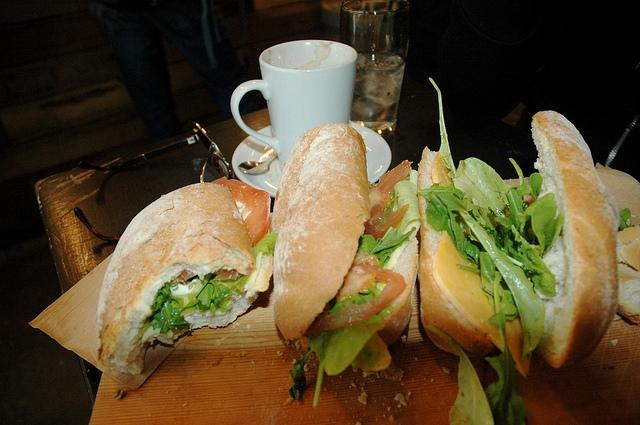lettuce: (458, 209, 544, 362), (310, 287, 393, 376), (426, 325, 494, 425), (484, 271, 528, 425), (426, 194, 478, 268), (494, 222, 544, 294), (454, 156, 513, 217), (429, 77, 457, 182), (518, 234, 556, 297), (150, 282, 192, 334), (370, 226, 417, 268), (517, 193, 554, 237), (352, 333, 392, 372), (531, 198, 557, 256), (289, 346, 313, 400), (196, 279, 220, 312), (252, 232, 278, 259), (393, 180, 418, 208), (464, 239, 484, 267), (480, 252, 496, 283), (358, 234, 378, 254), (530, 172, 543, 199), (618, 208, 632, 231)
tomato: (306, 269, 406, 331), (210, 176, 271, 248), (364, 160, 413, 240), (171, 269, 197, 284), (213, 269, 243, 281)
